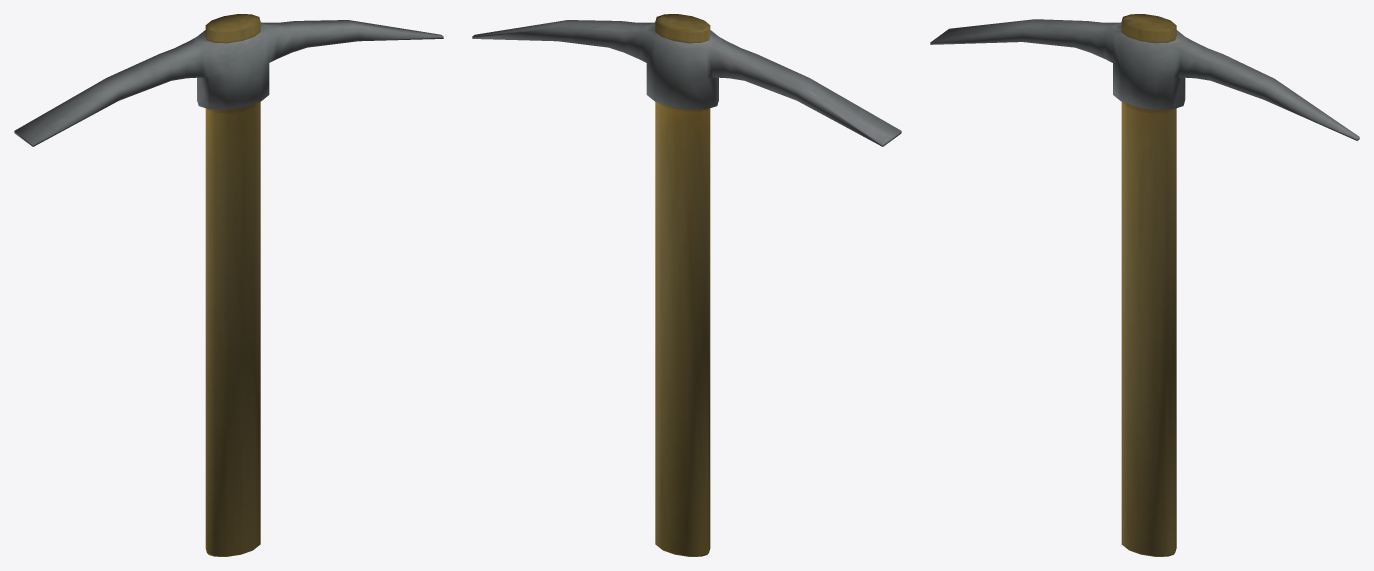
The model's file is pickaxe.fbx.
3 views of the same model, side by side, from view 1: azimuth 30°, elevation 25°; view 2: azimuth 150°, elevation 25°; view 3: azimuth 330°, elevation 25° (orthographic).
Parts seen in each view (by area): view 1: Pickaxe; view 2: Pickaxe; view 3: Pickaxe.
Part boxes in pixels (bbox=[...]): Pickaxe: bbox=[14, 14, 443, 556]; Pickaxe: bbox=[472, 14, 901, 556]; Pickaxe: bbox=[930, 14, 1359, 556].
Bounding box in the file's own units: 64.75 × 77.65 × 6.73.
